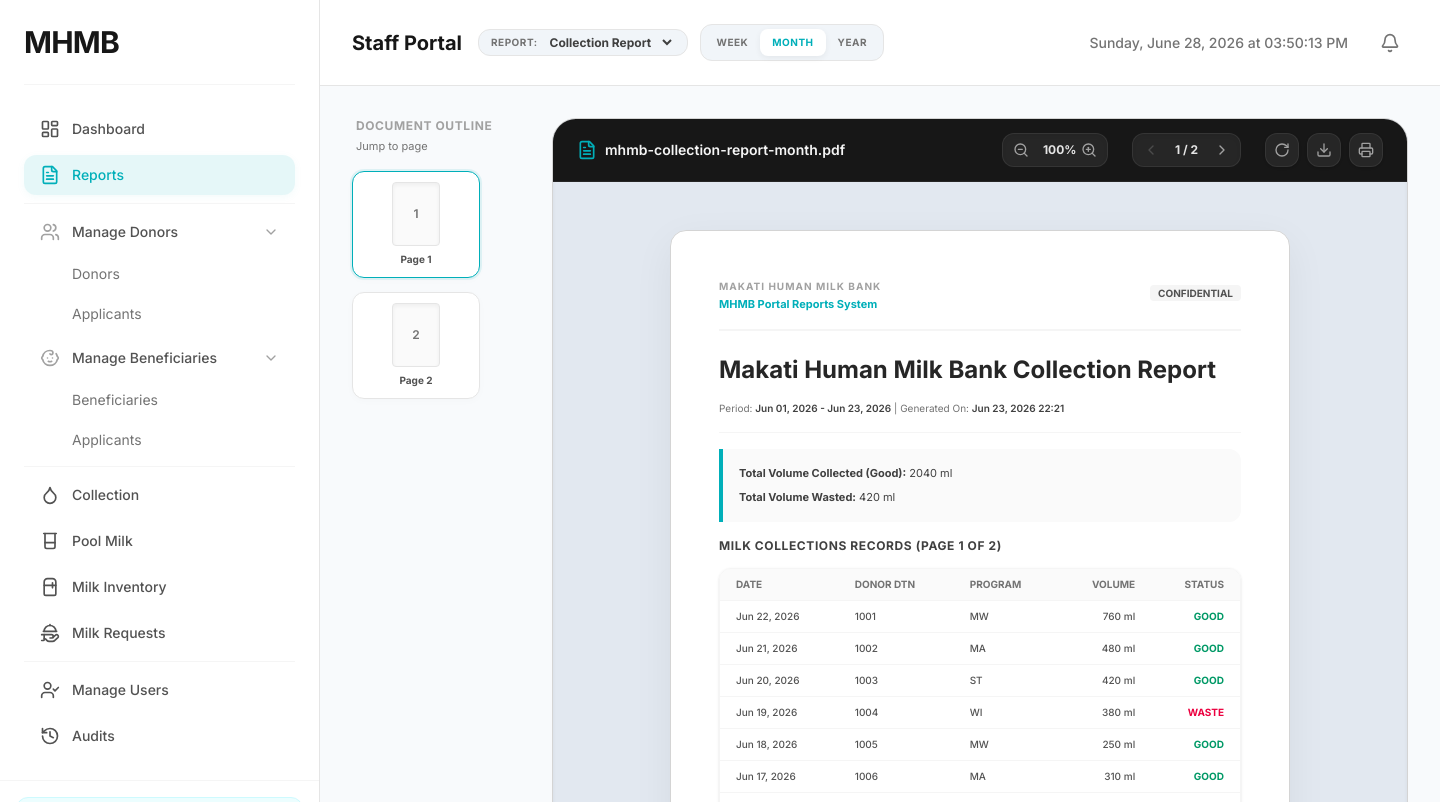
StaffReports Component › updates zoom percentage when clicking zoom in and zoom out
This screenshot has width=1440, height=802.
Expected: the text with test id "zoom-val" reads "100%", [1043,142,1076,157]
#  Zoom In
Click the button with test id "zoom-in-btn" at x=1089, y=150, box [1075,136,1103,164]
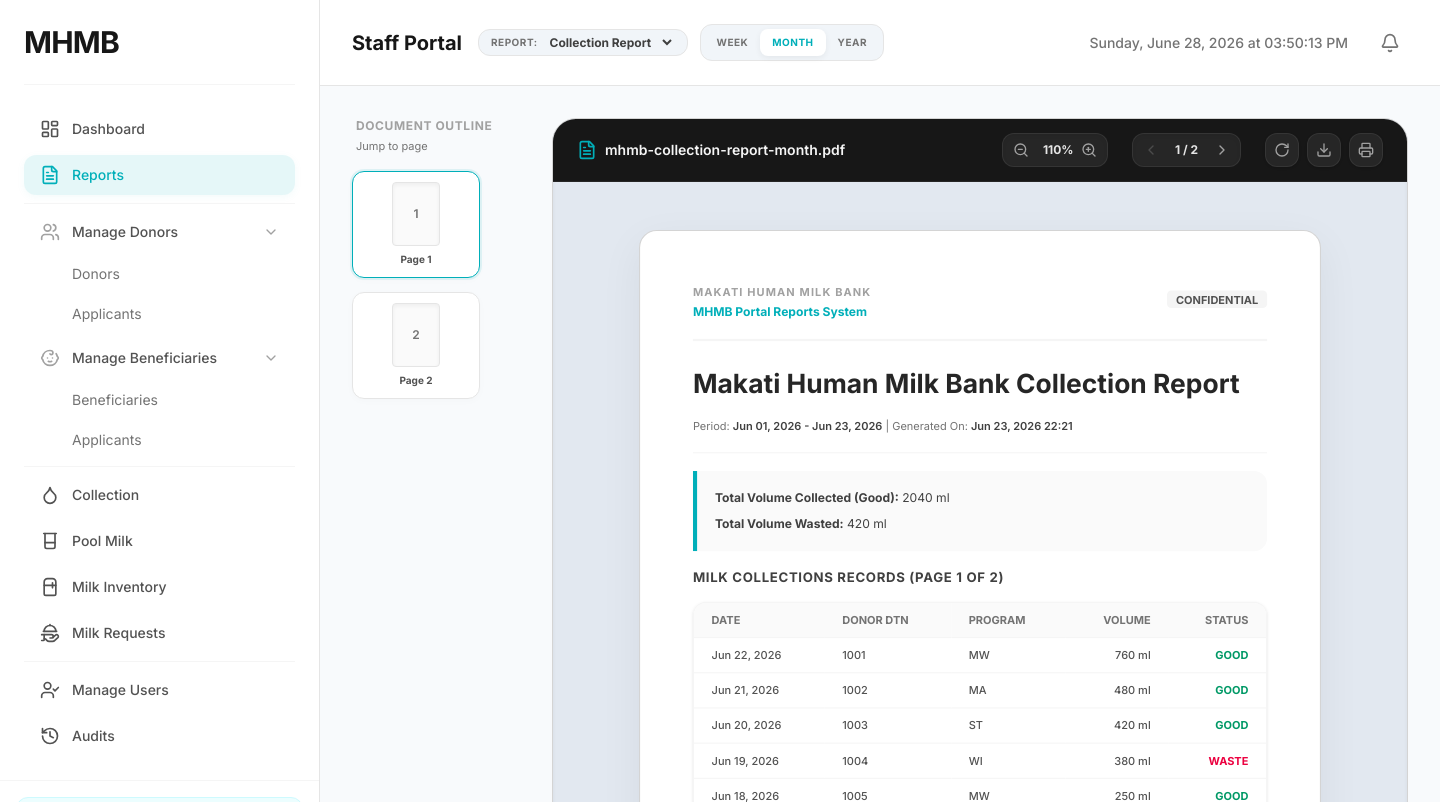
Now the text with test id "zoom-val" reads "110%", box [1043,142,1074,157]
# Zoom Out
Click the button with test id "zoom-out-btn" at x=1021, y=150, box [1007,136,1035,164]
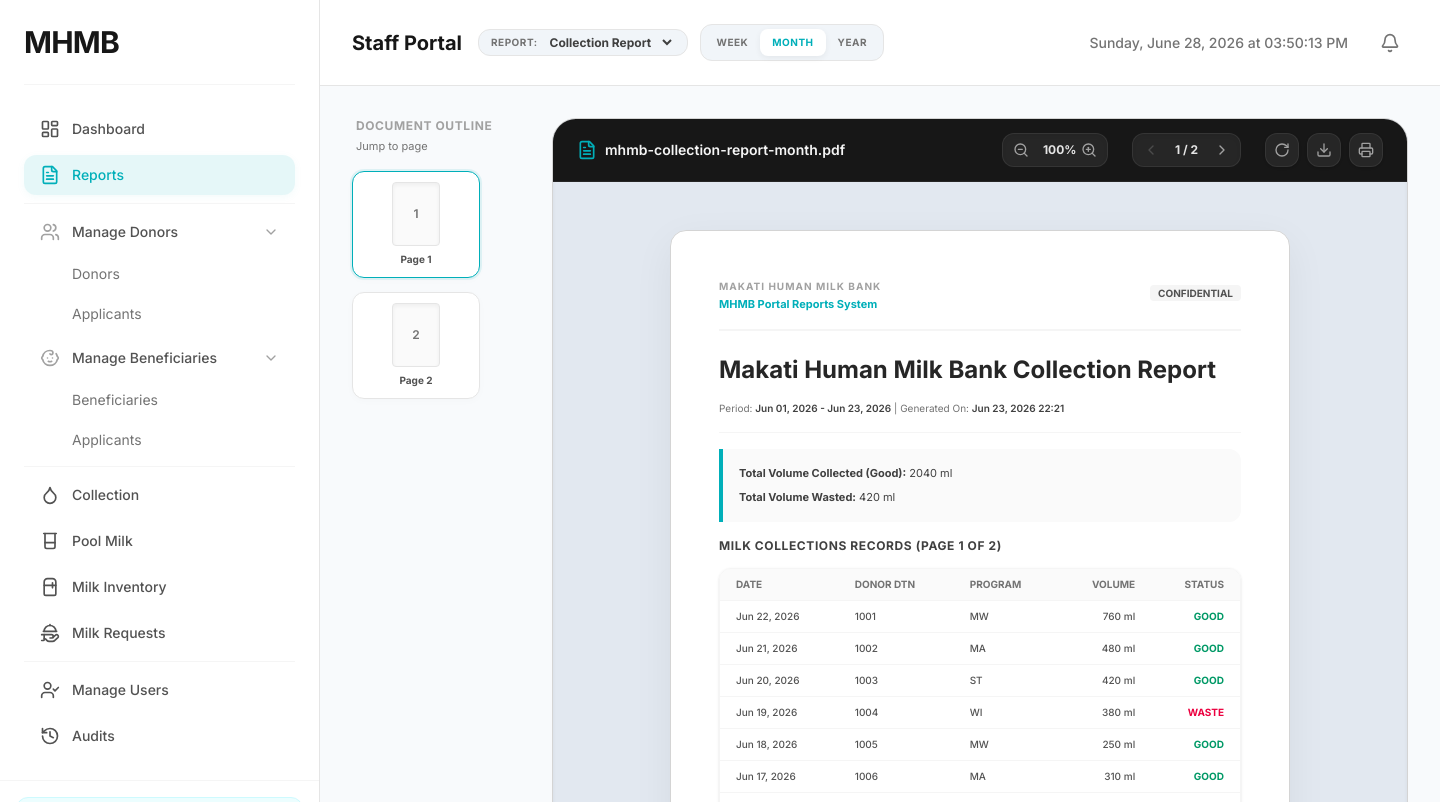
Now the text with test id "zoom-val" reads "100%", box [1043,142,1076,157]
# Zoom Out again
Click the button with test id "zoom-out-btn" at x=1021, y=150, box [1007,136,1035,164]
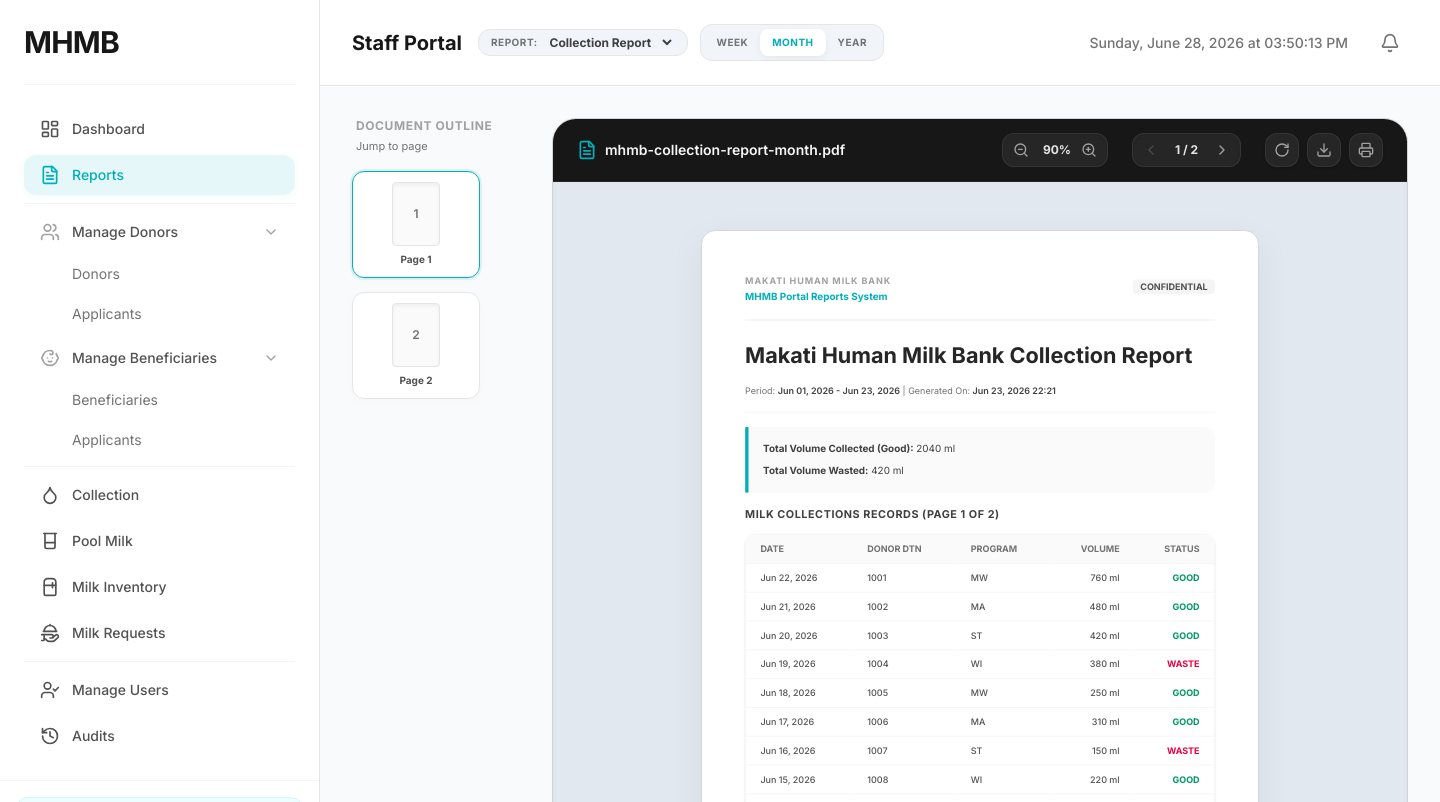
Now the text with test id "zoom-val" reads "90%", box [1043,142,1071,157]
